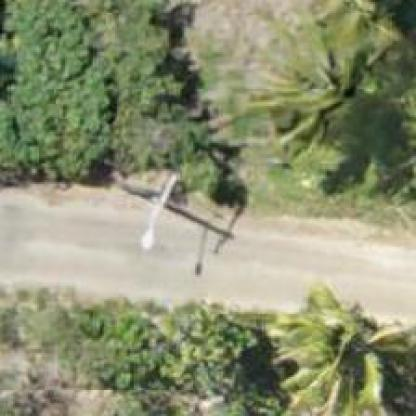coconut tree: (266, 281, 414, 414)
